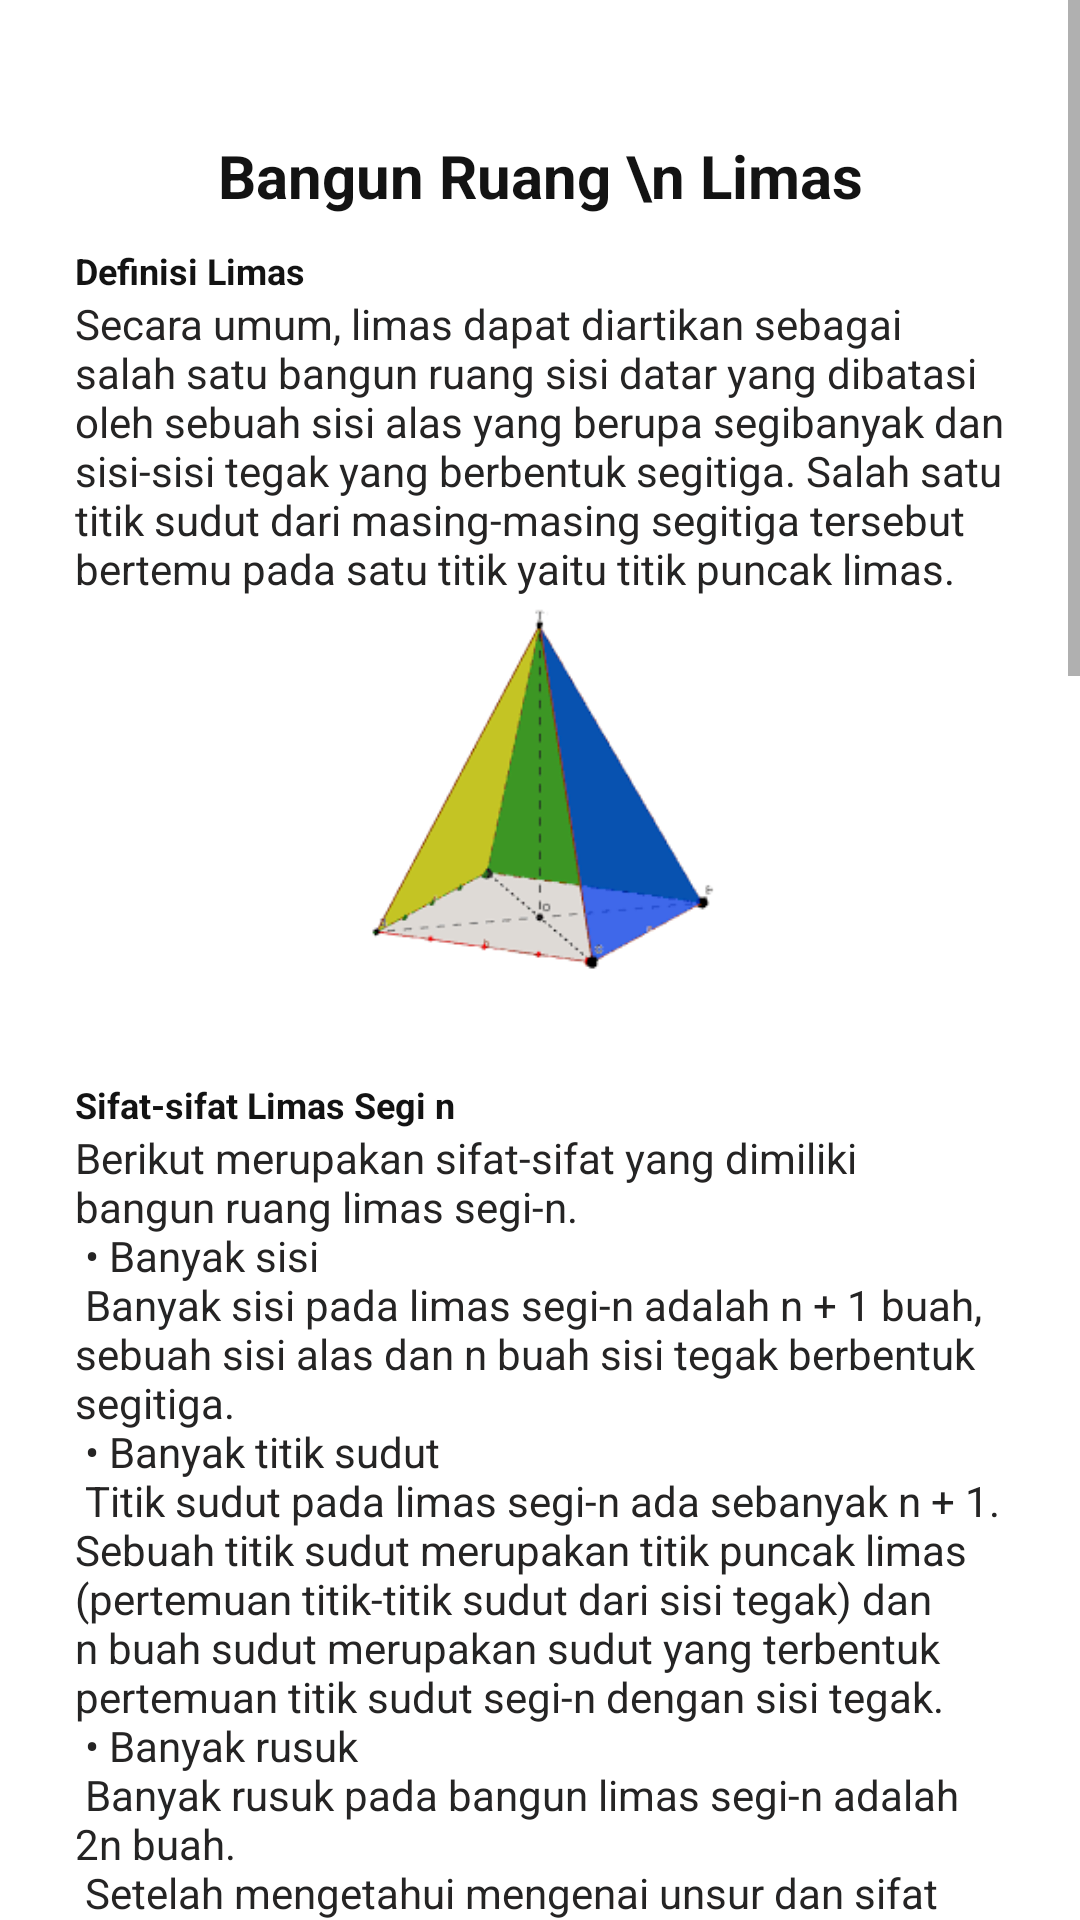

Icons on this 1080px×1920px Android screen, each with the point to tap as [x,y]:
contoh limas: [542,789]
